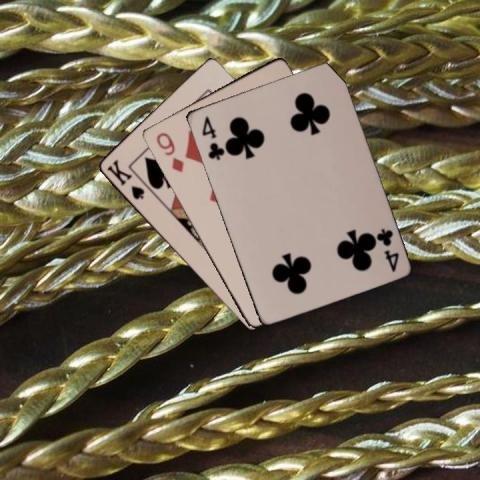4c: (373, 225, 400, 273), (198, 114, 224, 162)
9d: (152, 129, 184, 174)
Ks: (103, 156, 146, 201)
